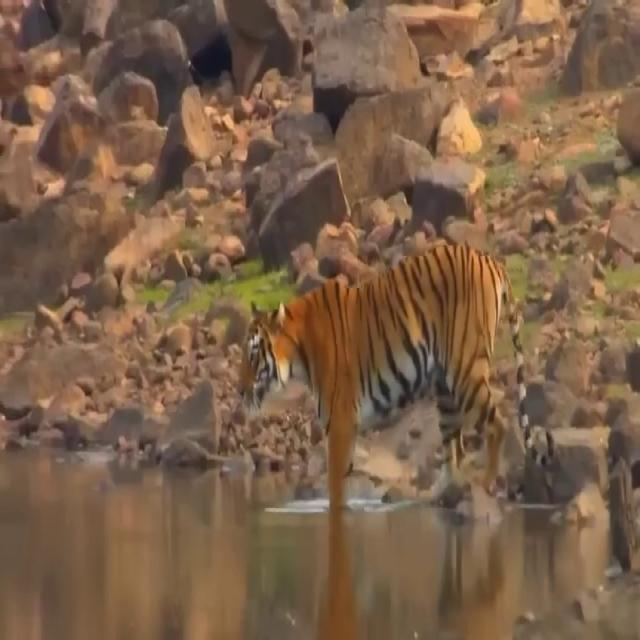tiger: (236, 244, 555, 504)
